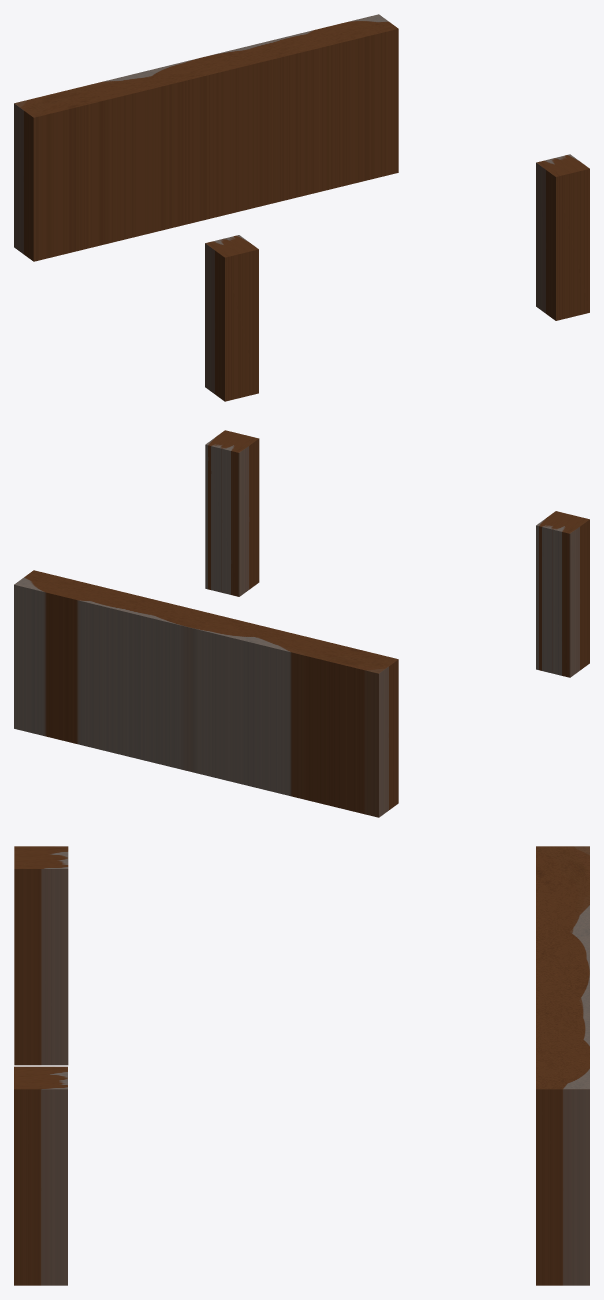
File: triRail.fbx
3 views of the same model, one above another, from view 1: azimuth 30°, elevation 25°; view 2: azimuth 150°, elevation 25°; view 3: azimuth 270°, elevation 25° (orthographic). The views are drawn at different scales.
Visible parts, largest first — view 1: polySurface33; view 2: polySurface33; view 3: polySurface33.
Part boxes in pixels (x1,y1,x2,y2): polySurface33: (14, 14, 589, 401); polySurface33: (14, 430, 589, 817); polySurface33: (14, 846, 589, 1285).
Bounding box in the file's own units: 1.6 × 0.6027 × 1.6.
Materials: 1 (1 with a texture image).
